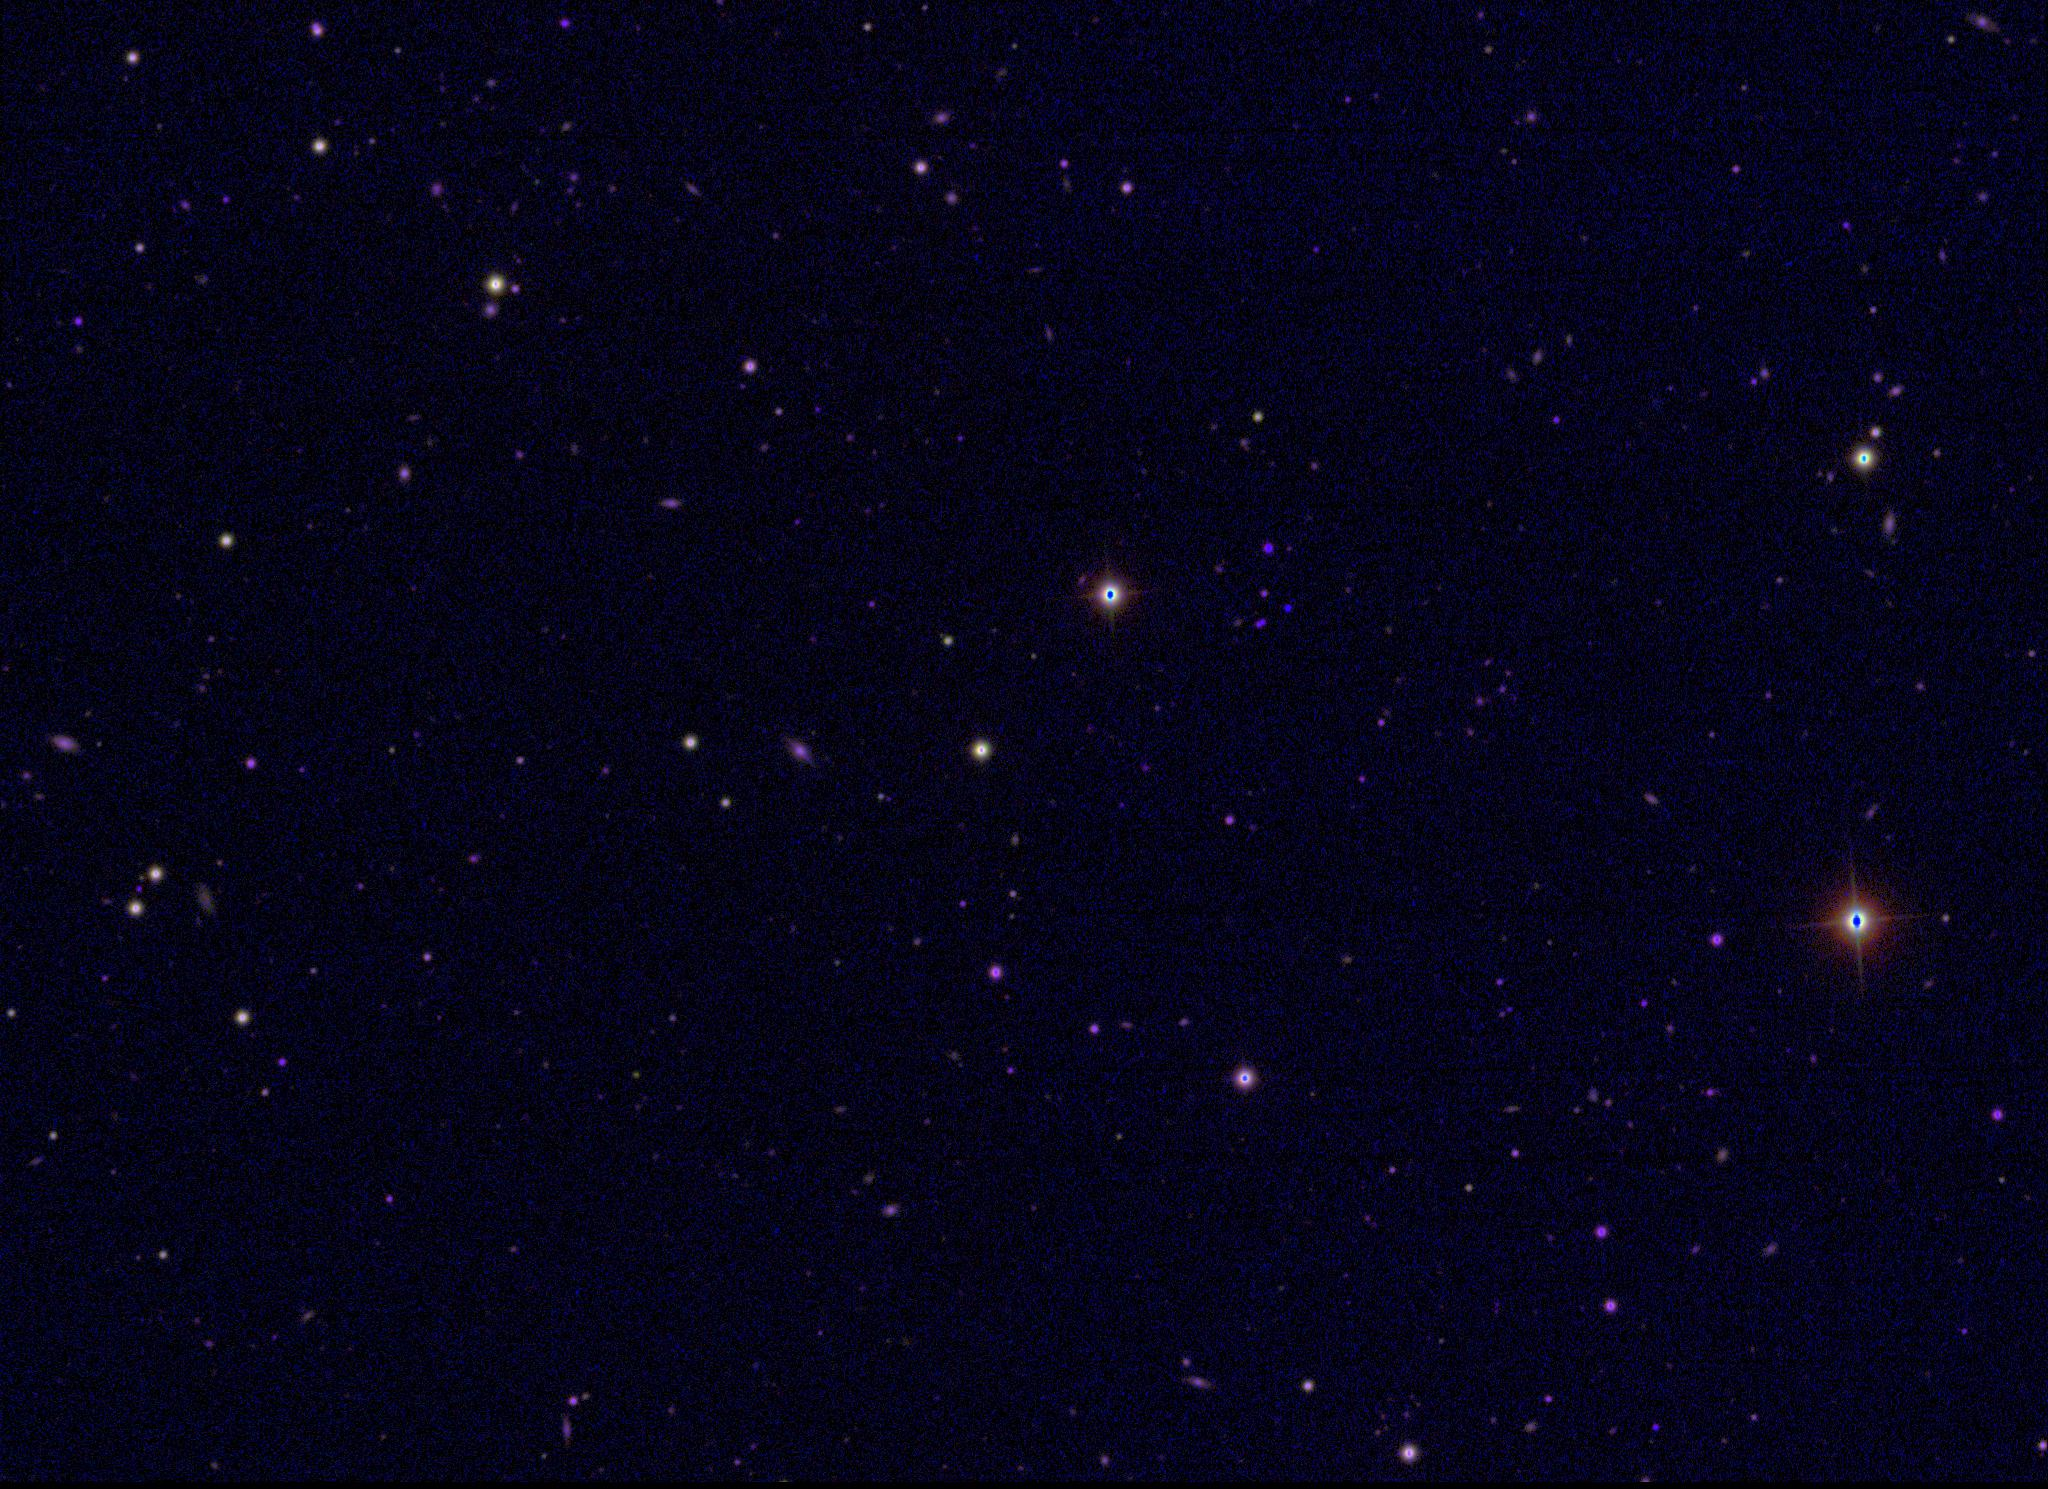L: (1278, 603, 1293, 617)
